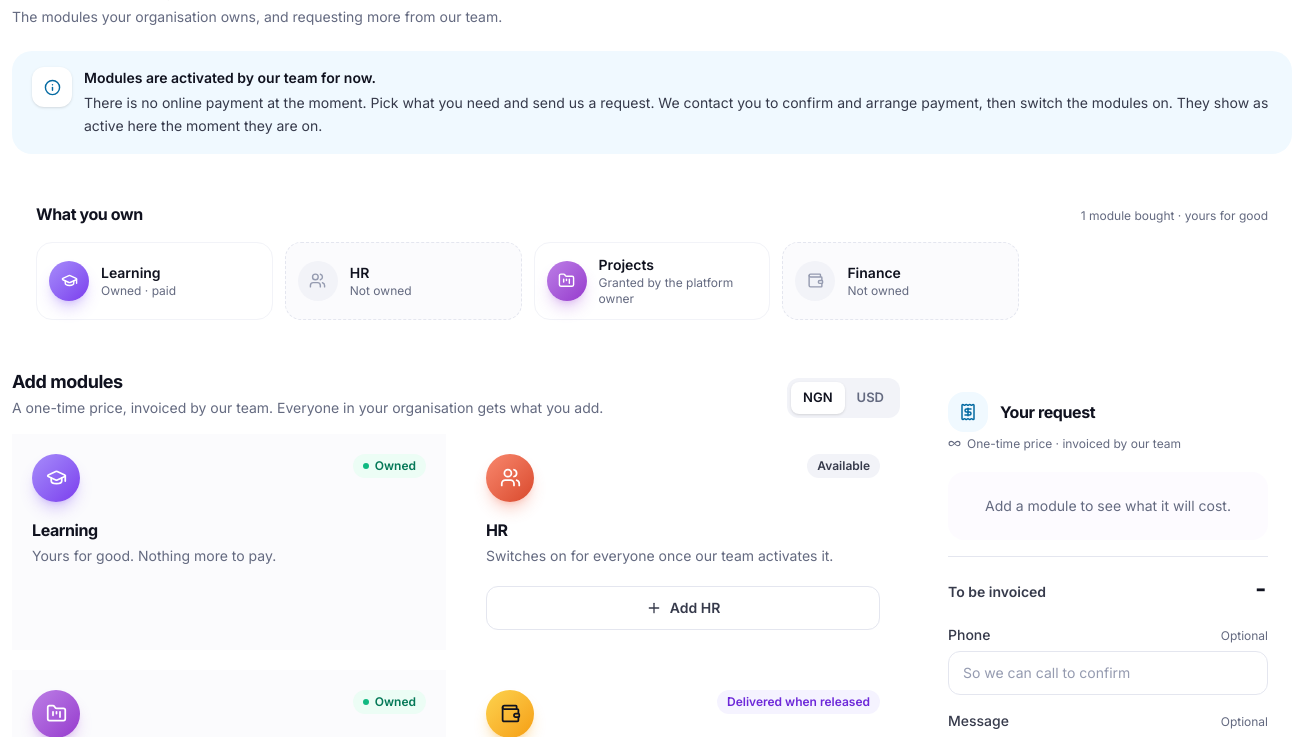
Test: Plan & billing with online payment switched off › says up front that our team activates modules, and still shows the price
Expected: the text "Modules are activated by our team for now." is shown, [84,69,376,86]
Click the checkbox labelled "Add HR" at x=683, y=608, box [486,586,880,630]
(page scrolled)
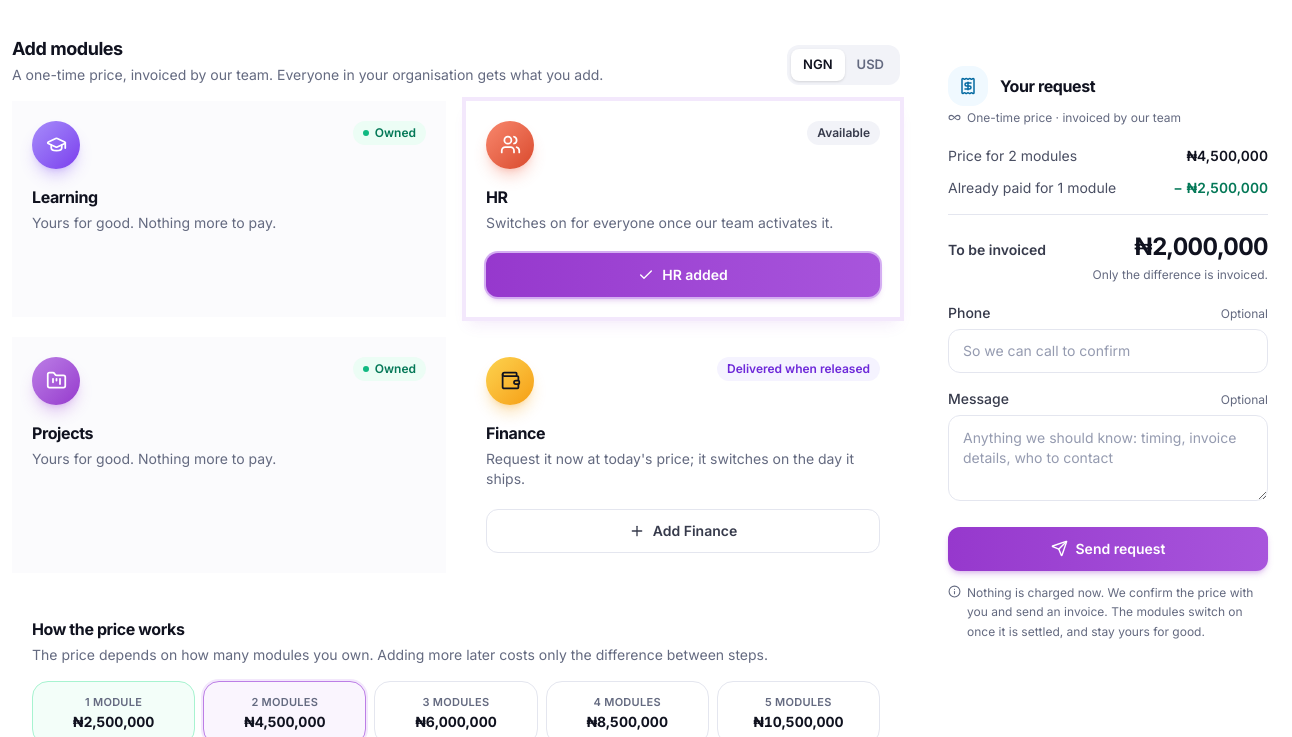
Expected: the element "Your request" shows "To be invoiced", [948,241,1046,258]
Result: the element "Your request" shows "₦2,000,000" at [1134,232,1268,261]
